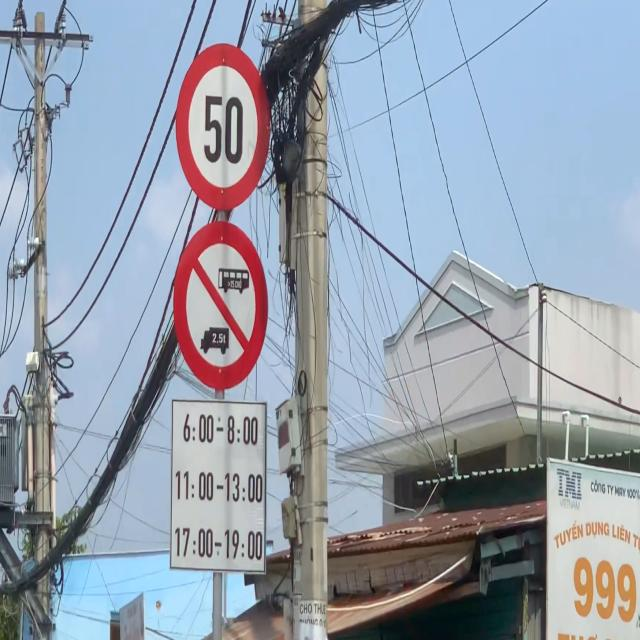Cam con lai: (172, 222, 270, 392)
Toc do toi da: (174, 43, 272, 210)
